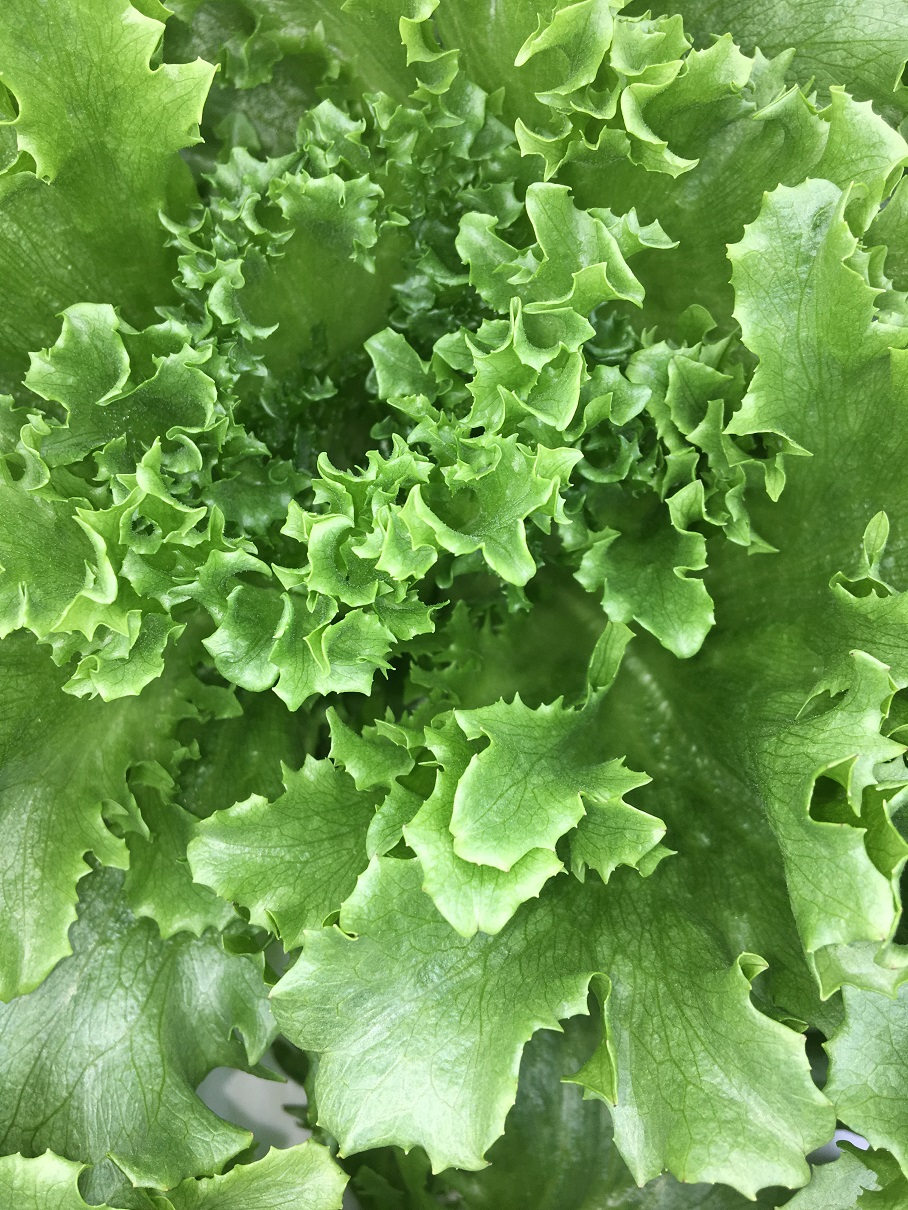tipburn: (595, 1084, 634, 1123), (831, 812, 859, 835)
